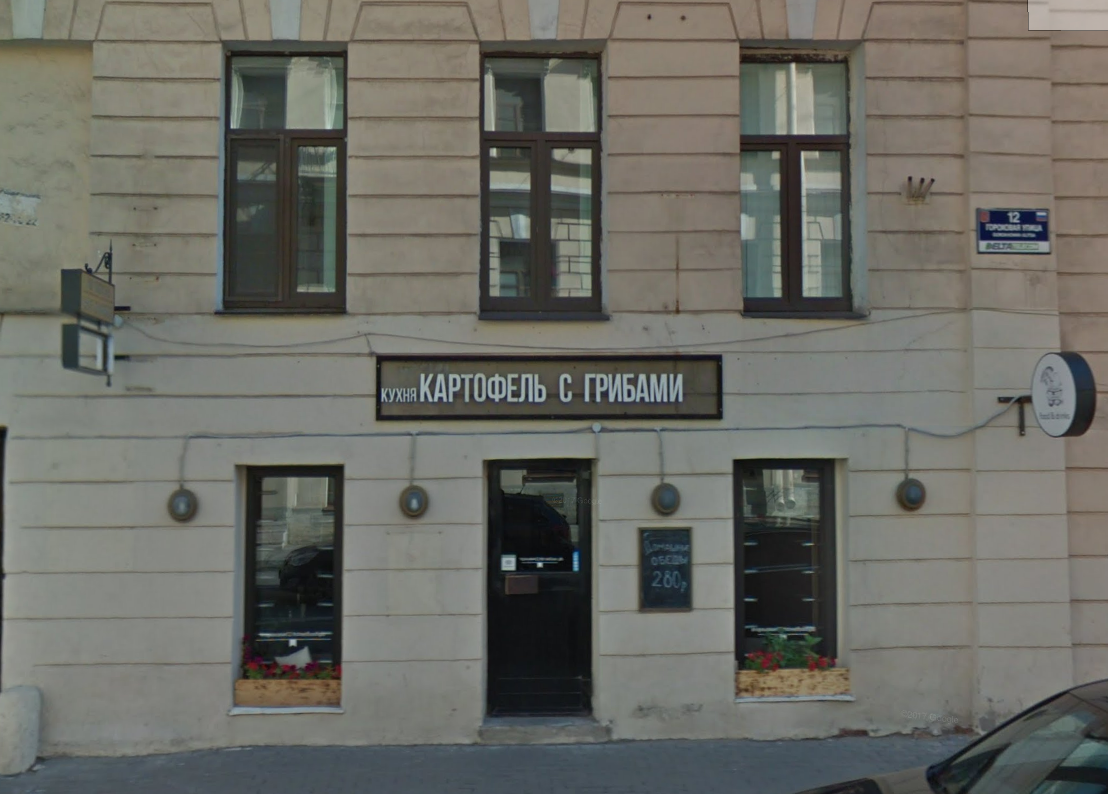cantilever: (989, 332, 1100, 449), (58, 241, 146, 388)
door: (485, 460, 589, 722)
signboard: (376, 350, 722, 427)
window: (222, 45, 342, 309), (737, 43, 846, 322), (480, 54, 593, 313), (732, 455, 846, 691), (234, 462, 344, 657)
